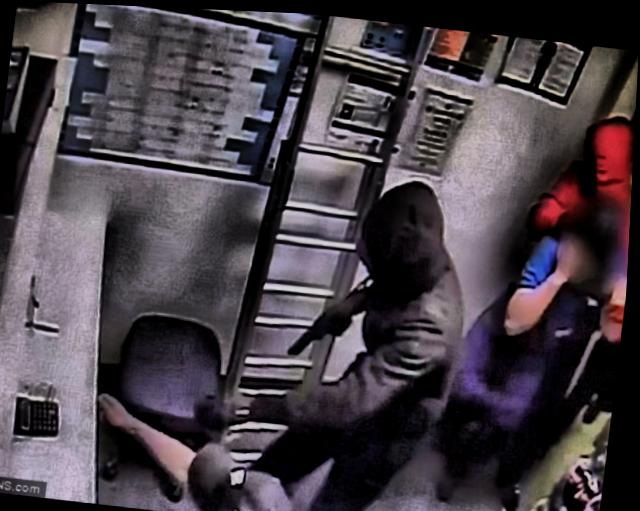pistol: (287, 303, 356, 357)
